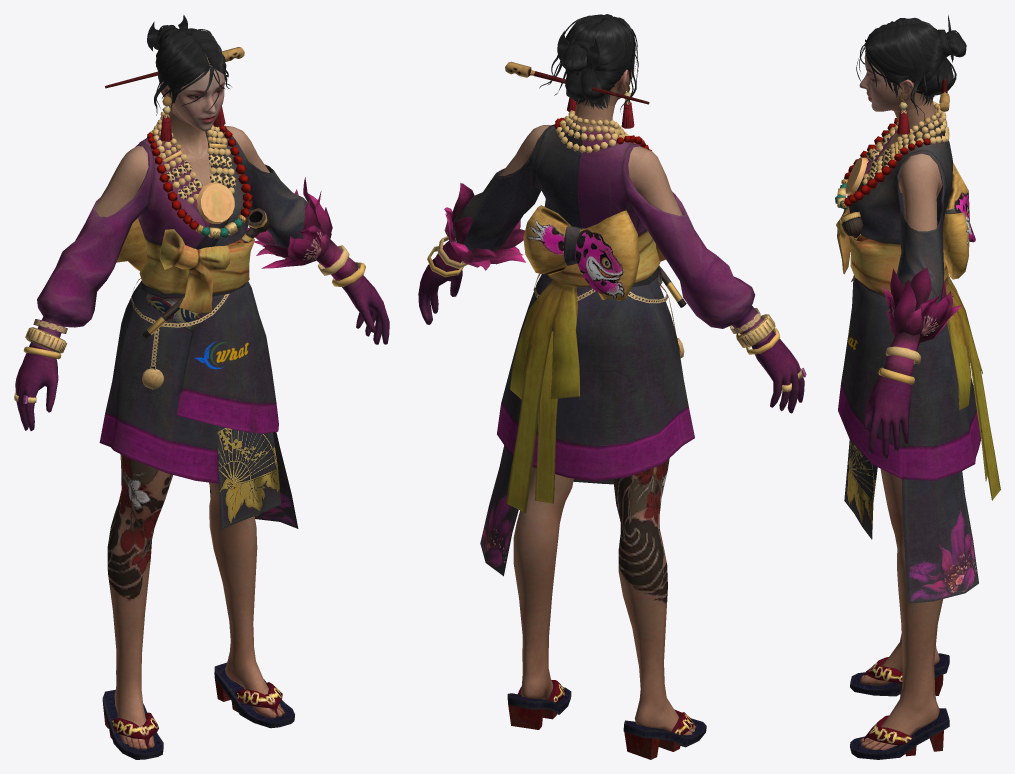
The model's file is Yakuza Female.obj.
3 views of the same model, side by side, from view 1: azimuth 30°, elevation 25°; view 2: azimuth 150°, elevation 25°; view 3: azimuth 270°, elevation 25° (orthographic). The views are drawn at different scales.
Parts seen in each view (by area): view 1: Female_Lobby_Top_Cos_Yakuza, Female_Lobby_Bottom_Cos_Yakuza, Female_Lobby_Body_Cos_Yakuza_Female_Lobby_Bottom_Cos_Yakuza.001, Female_Lobby_Shoe_Cos_Yakuza, Female_Lobby_Hair_Cos_Yakuza, Female_Lobby_Top_Cos_Yakuza.001, female_lobby_head_sc_KpopSinger, Female_Lobby_Hair_Cos_Yakuza.001; view 2: Female_Lobby_Top_Cos_Yakuza, Female_Lobby_Bottom_Cos_Yakuza, Female_Lobby_Body_Cos_Yakuza_Female_Lobby_Bottom_Cos_Yakuza.001, Female_Lobby_Hair_Cos_Yakuza, Female_Lobby_Shoe_Cos_Yakuza, Female_Lobby_Top_Cos_Yakuza.001, Female_Lobby_Hair_Cos_Yakuza.001; view 3: Female_Lobby_Bottom_Cos_Yakuza, Female_Lobby_Top_Cos_Yakuza, Female_Lobby_Body_Cos_Yakuza_Female_Lobby_Bottom_Cos_Yakuza.001, Female_Lobby_Hair_Cos_Yakuza, Female_Lobby_Shoe_Cos_Yakuza, Female_Lobby_Top_Cos_Yakuza.001, female_lobby_head_sc_KpopSinger, Female_Lobby_Hair_Cos_Yakuza.001.
Part boxes in pixels (left/top/right/bottom): Female_Lobby_Top_Cos_Yakuza: left=14, top=111, right=389, bottom=430; Female_Lobby_Bottom_Cos_Yakuza: left=99, top=278, right=298, bottom=529; Female_Lobby_Body_Cos_Yakuza_Female_Lobby_Bottom_Cos_Yakuza.001: left=107, top=454, right=284, bottom=749; Female_Lobby_Shoe_Cos_Yakuza: left=102, top=662, right=294, bottom=759; Female_Lobby_Hair_Cos_Yakuza: left=147, top=15, right=231, bottom=115; Female_Lobby_Top_Cos_Yakuza.001: left=94, top=106, right=269, bottom=216; female_lobby_head_sc_KpopSinger: left=159, top=52, right=224, bottom=131; Female_Lobby_Hair_Cos_Yakuza.001: left=105, top=47, right=244, bottom=141; Female_Lobby_Top_Cos_Yakuza: left=418, top=110, right=806, bottom=413; Female_Lobby_Bottom_Cos_Yakuza: left=480, top=266, right=694, bottom=576; Female_Lobby_Body_Cos_Yakuza_Female_Lobby_Bottom_Cos_Yakuza.001: left=513, top=458, right=696, bottom=735; Female_Lobby_Hair_Cos_Yakuza: left=539, top=14, right=638, bottom=111; Female_Lobby_Shoe_Cos_Yakuza: left=507, top=680, right=706, bottom=759; Female_Lobby_Top_Cos_Yakuza.001: left=499, top=101, right=682, bottom=215; Female_Lobby_Hair_Cos_Yakuza.001: left=505, top=61, right=649, bottom=128; Female_Lobby_Bottom_Cos_Yakuza: left=838, top=274, right=1000, bottom=603; Female_Lobby_Top_Cos_Yakuza: left=835, top=101, right=975, bottom=459; Female_Lobby_Body_Cos_Yakuza_Female_Lobby_Bottom_Cos_Yakuza.001: left=860, top=469, right=943, bottom=750; Female_Lobby_Hair_Cos_Yakuza: left=856, top=15, right=966, bottom=119; Female_Lobby_Shoe_Cos_Yakuza: left=850, top=653, right=949, bottom=759; Female_Lobby_Top_Cos_Yakuza.001: left=877, top=100, right=942, bottom=231; female_lobby_head_sc_KpopSinger: left=859, top=52, right=932, bottom=112; Female_Lobby_Hair_Cos_Yakuza.001: left=897, top=78, right=949, bottom=134.
Size of the model in its own units: 0.5459 by 0.9841 by 0.2121.
7 materials, 7 textured.
